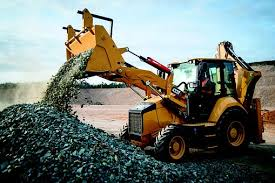bulldozer: (61, 7, 268, 158)
